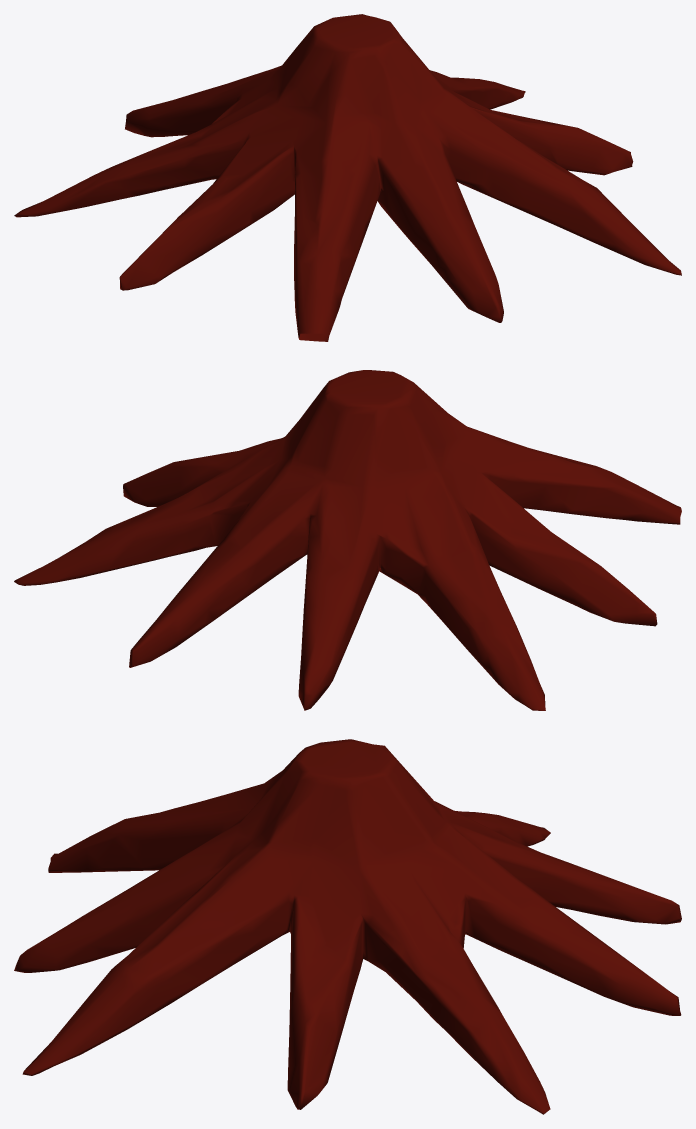
Rendered from gen3d-exposed-tree-root-lod0.glb.
3 renders of one model, top to bottom at view 1: azimuth 30°, elevation 25°; view 2: azimuth 150°, elevation 25°; view 3: azimuth 270°, elevation 25°, orthographic. The views are drawn at different scales.
Visible parts, largest first — view 1: part_0; view 2: part_0; view 3: part_0.
Boxes of the visible parts, x1,y1,x2,y2 form: part_0: [14, 14, 681, 341]; part_0: [14, 370, 681, 710]; part_0: [14, 739, 681, 1114].
Size of the model in its own units: 2.88 by 0.9992 by 2.84.
